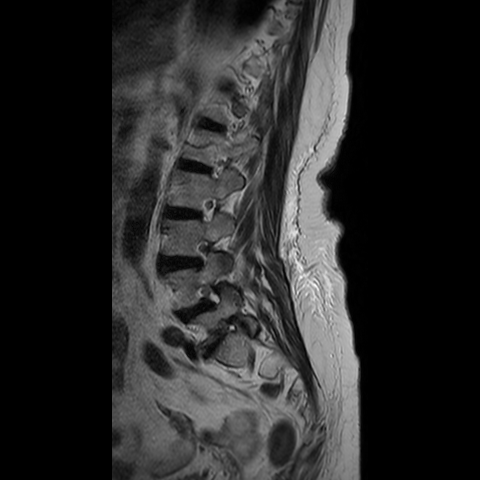LFS0: (184, 232, 223, 275), (188, 277, 231, 313), (192, 191, 226, 232)
